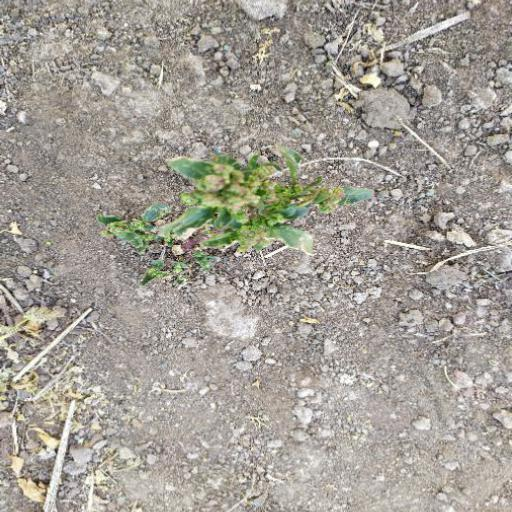weed: (110, 155, 337, 280)
